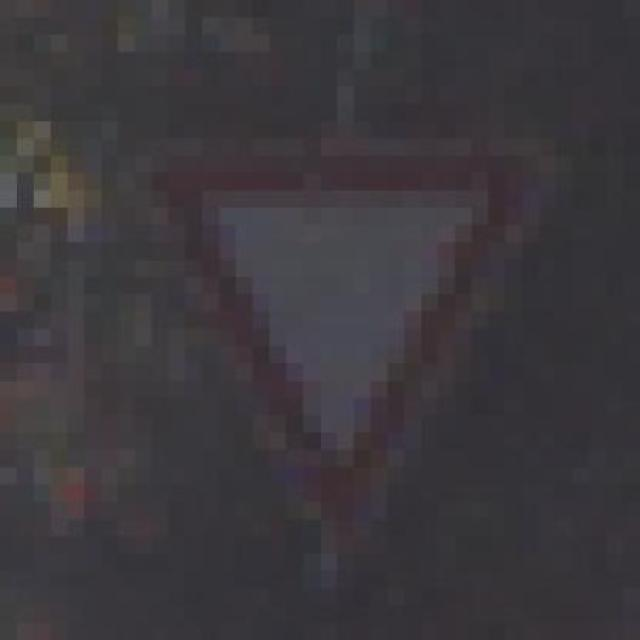Give Way: (118, 120, 590, 572)
